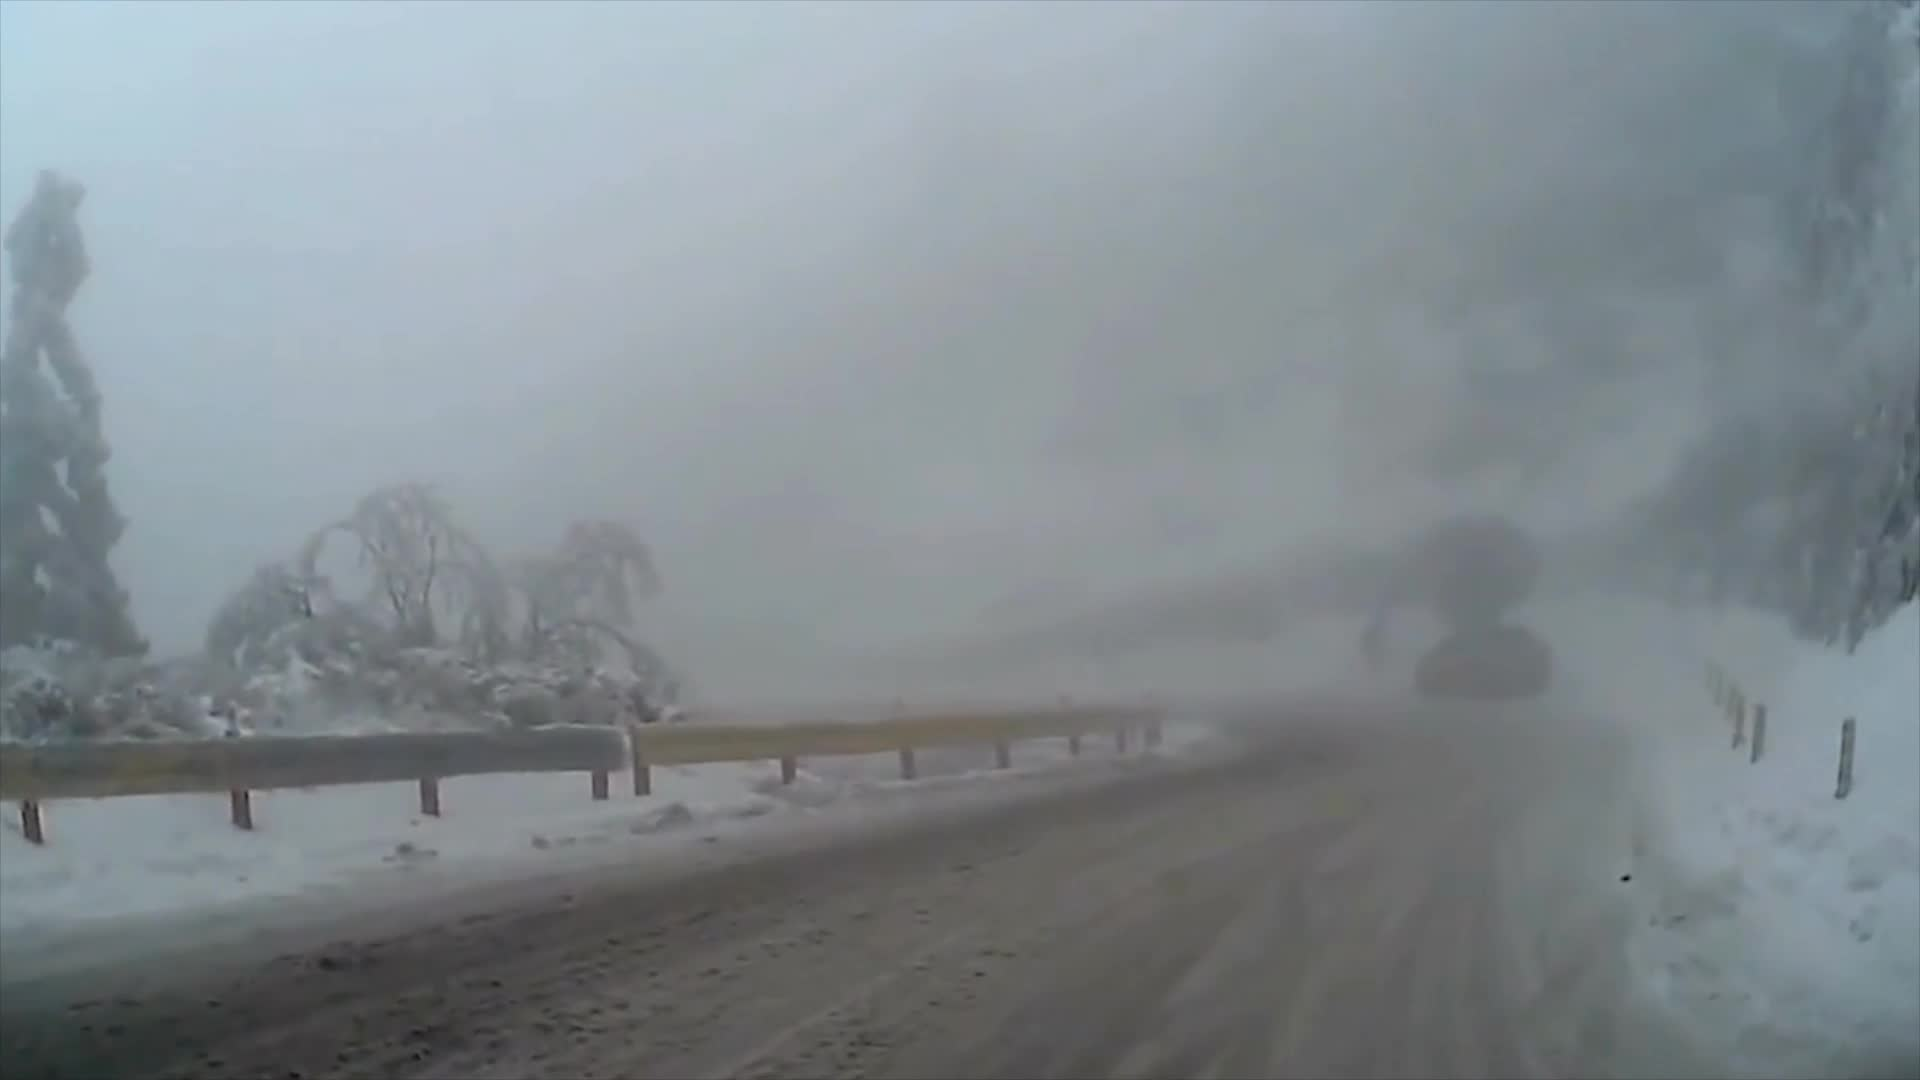vehicle: (1414, 622, 1549, 698)
